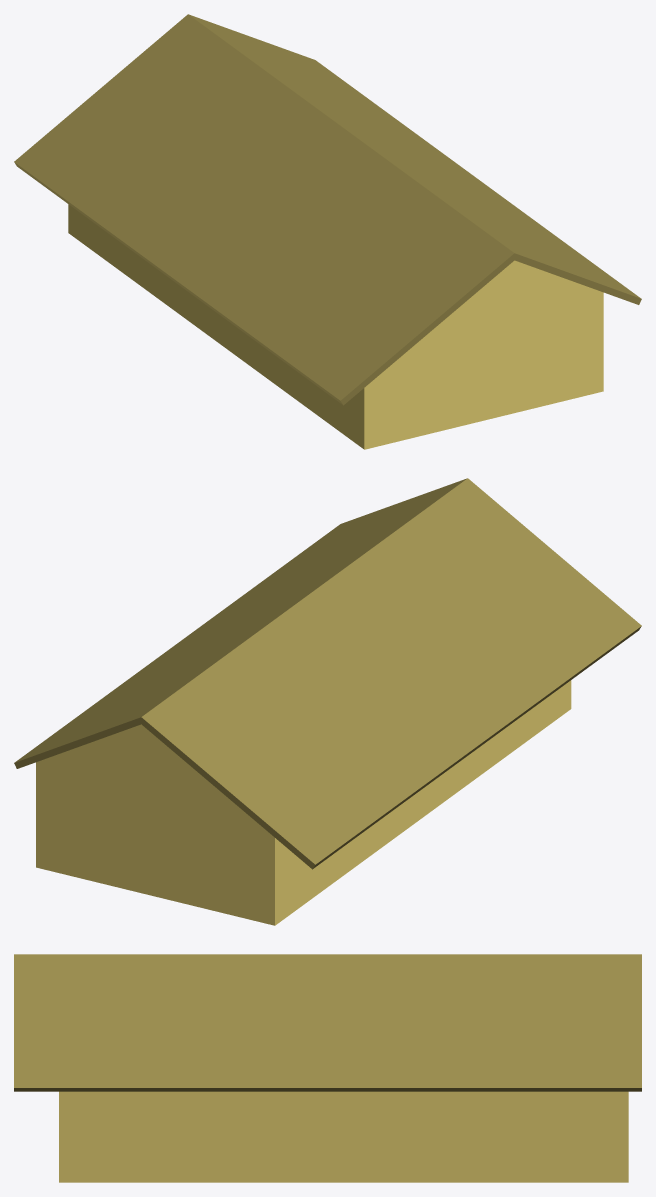
Rendered from result.glb.
The picture shows the model from 3 angles, top to bottom: view 1: azimuth 30°, elevation 25°; view 2: azimuth 150°, elevation 25°; view 3: azimuth 270°, elevation 25°; orthographic projection. The views are drawn at different scales.
Visible parts, largest first — view 1: be18b468-e236-4ef7-847d-912f15136e2c__undefined (×2), a23a3f24-2569-4e8c-a043-656e3c36efbe__undefined; view 2: be18b468-e236-4ef7-847d-912f15136e2c__undefined (×2), a23a3f24-2569-4e8c-a043-656e3c36efbe__undefined; view 3: be18b468-e236-4ef7-847d-912f15136e2c__undefined, a23a3f24-2569-4e8c-a043-656e3c36efbe__undefined.
Part boxes in pixels (bbox=[...]): be18b468-e236-4ef7-847d-912f15136e2c__undefined (×2): bbox=[14, 14, 641, 405]; a23a3f24-2569-4e8c-a043-656e3c36efbe__undefined: bbox=[68, 204, 603, 449]; be18b468-e236-4ef7-847d-912f15136e2c__undefined (×2): bbox=[14, 478, 641, 869]; a23a3f24-2569-4e8c-a043-656e3c36efbe__undefined: bbox=[36, 680, 571, 925]; be18b468-e236-4ef7-847d-912f15136e2c__undefined: bbox=[14, 954, 641, 1091]; a23a3f24-2569-4e8c-a043-656e3c36efbe__undefined: bbox=[59, 1091, 628, 1182].
Bounding box in the file's own units: 1258 × 729 × 2360.
